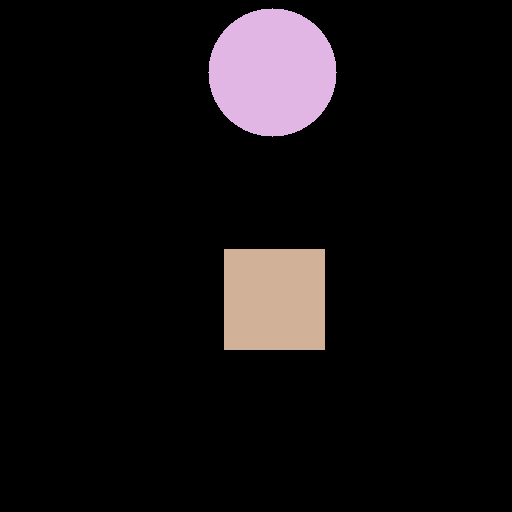circle: (208, 8, 336, 136)
square: (224, 249, 324, 349)
